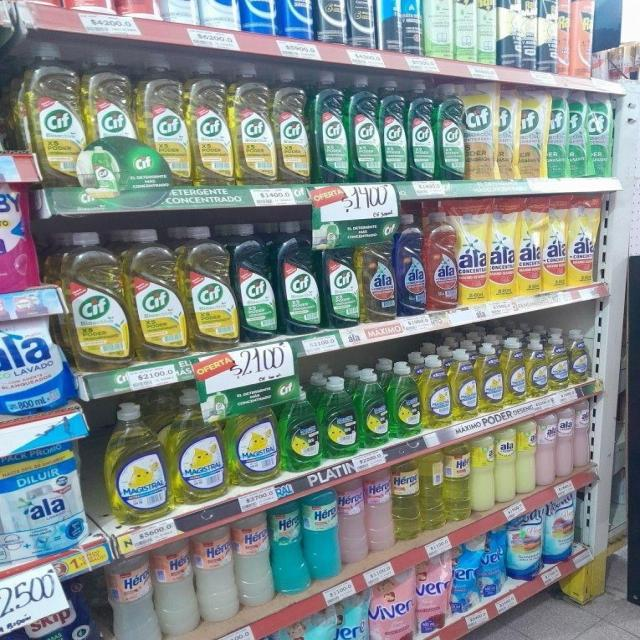ala_conc_amarillo: (360, 226, 395, 322)
ala_conc_azul: (396, 212, 426, 316)
ala_conc_rojo: (426, 210, 458, 312)
ala_crem_amarillo: (471, 431, 494, 512), (496, 424, 516, 503), (516, 418, 536, 496)
ala_crem_rosado: (537, 412, 556, 487), (557, 405, 573, 478), (575, 399, 590, 471)
ala_sachet_amarillo: (458, 198, 488, 305), (568, 196, 598, 288), (489, 200, 516, 300), (518, 198, 542, 295), (543, 197, 566, 291)
cif_conc_bot_amarilla: (23, 41, 84, 189), (66, 230, 128, 370), (86, 47, 142, 192), (130, 228, 185, 360), (186, 224, 236, 350), (142, 53, 188, 187), (188, 58, 230, 187), (232, 61, 274, 186), (274, 68, 310, 184)
cif_conc_botella_verde: (278, 220, 320, 334), (237, 222, 277, 341), (312, 70, 348, 183), (322, 227, 359, 328), (349, 74, 380, 182), (407, 79, 436, 181), (381, 77, 407, 182), (437, 83, 464, 181)
cif_conc_sachet_amarillo: (464, 82, 496, 180), (517, 87, 546, 179), (496, 84, 517, 180)
heroe: (108, 551, 155, 640), (196, 520, 236, 623), (155, 537, 196, 637), (236, 508, 272, 608), (304, 485, 340, 580), (272, 498, 304, 594), (340, 475, 366, 565), (393, 459, 420, 542), (366, 467, 392, 552)
magistral_con_amarillo: (106, 401, 168, 524), (171, 388, 226, 504), (228, 404, 278, 486), (422, 354, 451, 428), (452, 348, 478, 421), (478, 341, 503, 412), (504, 338, 526, 404), (526, 336, 547, 397), (548, 333, 569, 390), (570, 329, 590, 385)
